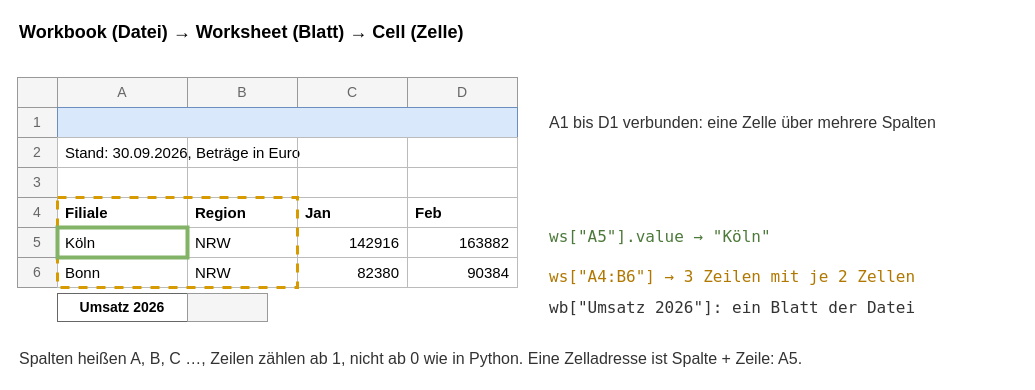
Some shapes in this 1035 by 390 pixel diagram are drawn without their labels. Here are the shapes that lost their labels. From the top down, the box of each, then its label:
(56, 106, 518, 138): Umsatzbericht 2026 nach Filialen
(186, 292, 268, 322): Ziele
